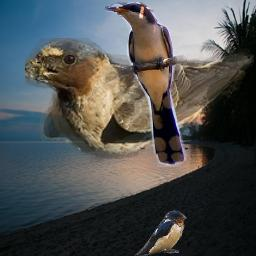Cuckoo: (105, 2, 187, 167)
Swallow: (25, 38, 254, 162), (135, 210, 187, 256)
